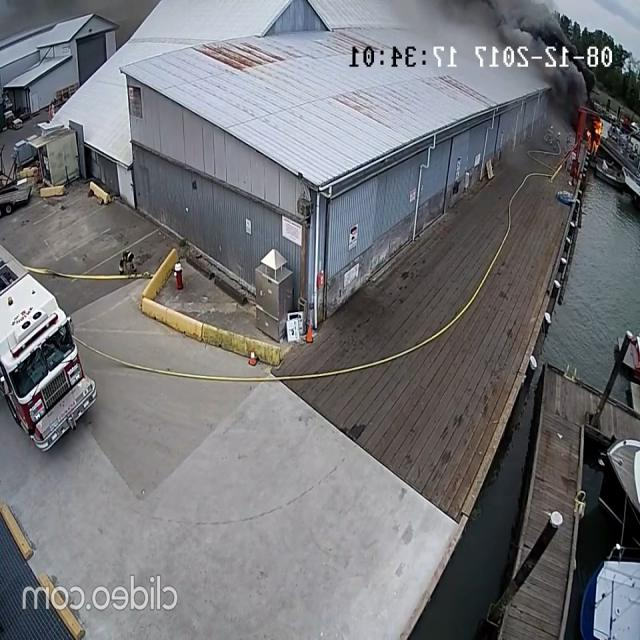fire: (586, 115, 605, 156)
